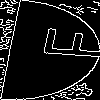F: (25, 25, 100, 62)
